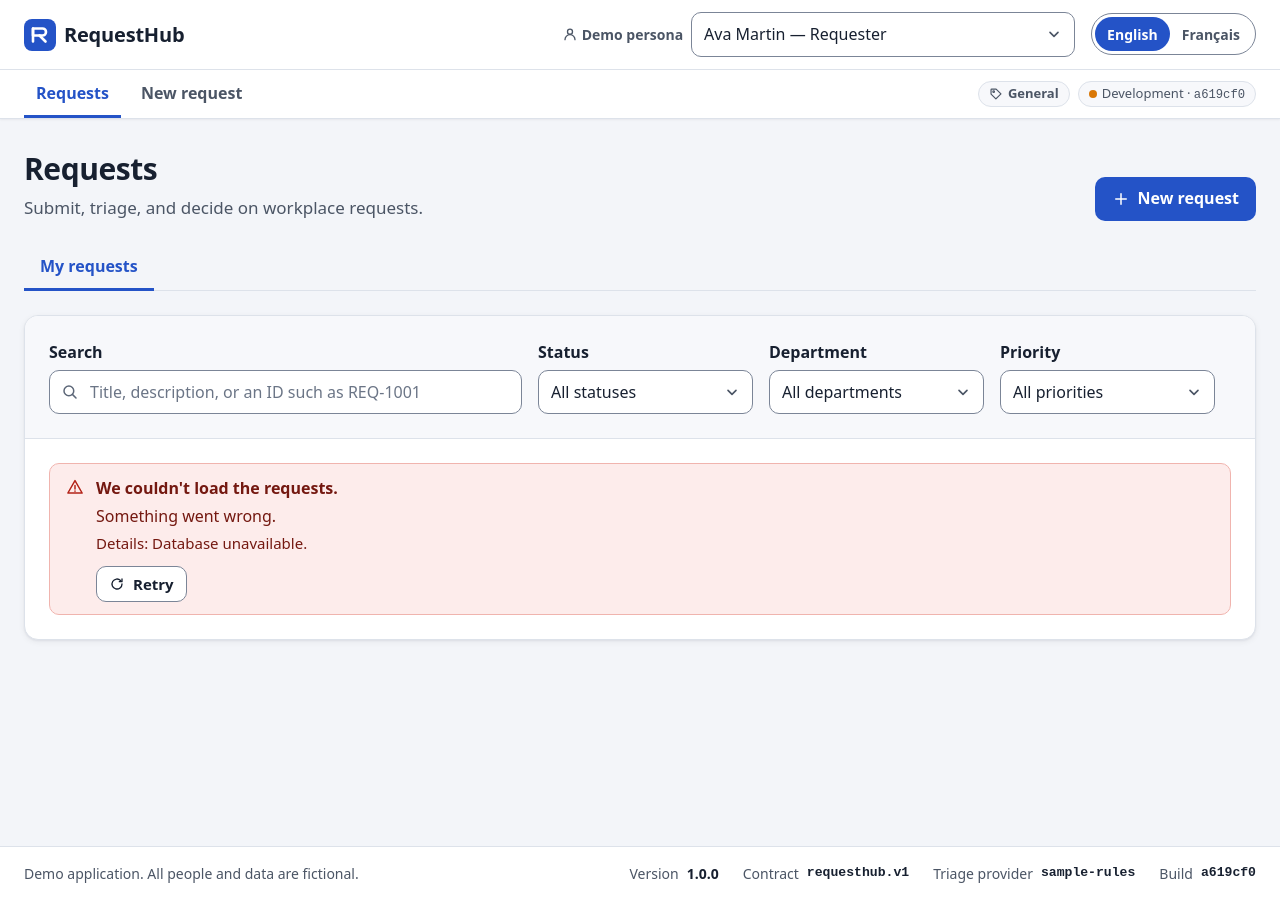
Test: QueuePage › shows an error with Retry, then the requests
The image size is (1280, 900).
Check: the message shows "We couldn't load the requests.", box [96,477,338,499]
Check: the message shows "Database unavailable.", box [96,533,307,553]
Click the button "Retry" at (141, 584), box [96,566,187,602]
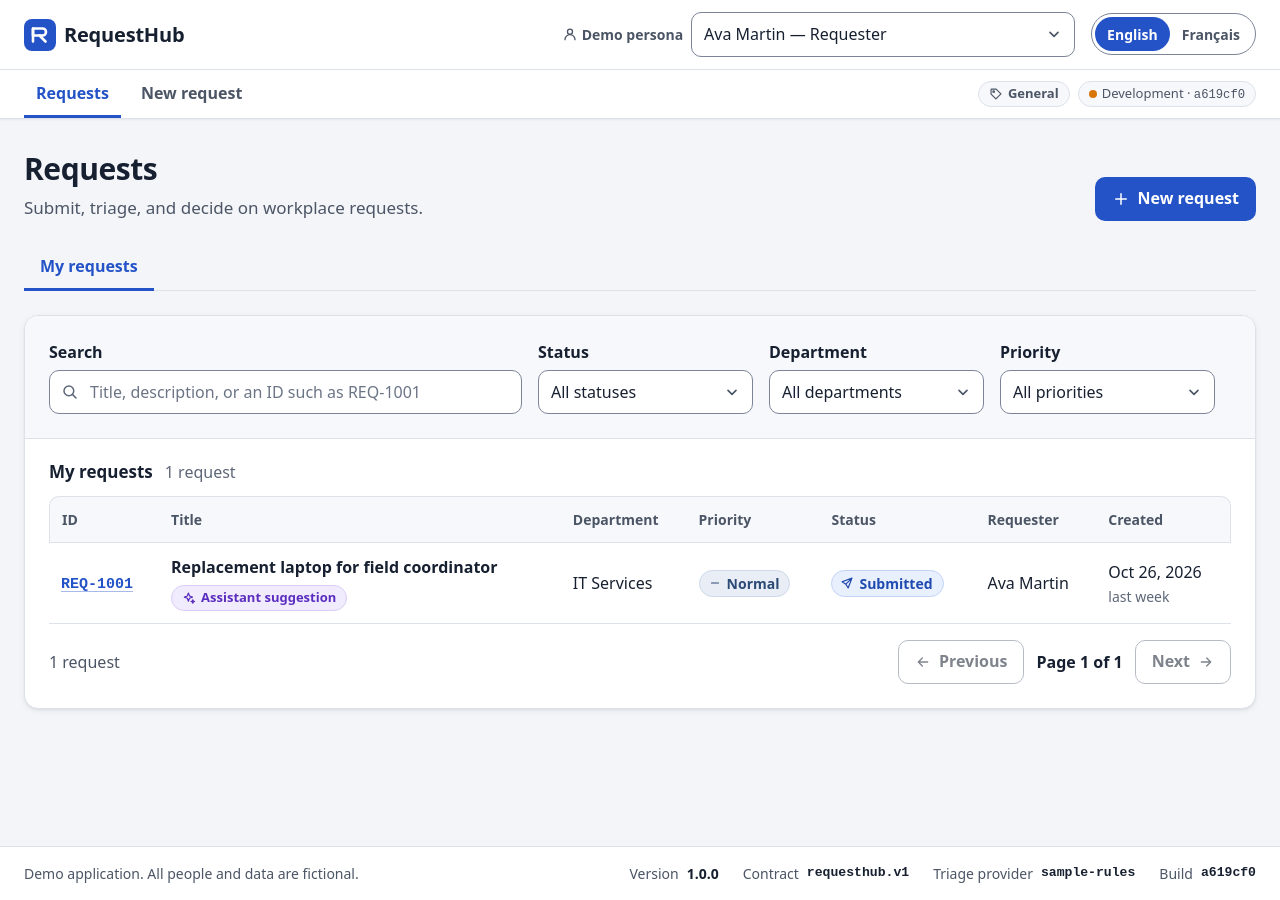
Check: the text "Assistant suggestion" is shown, box [171,585,347,611]
Check: the text "IT Services" is shown, box [561,543,687,624]
Check: the table "My requests" is shown, box [49,447,1231,624]
